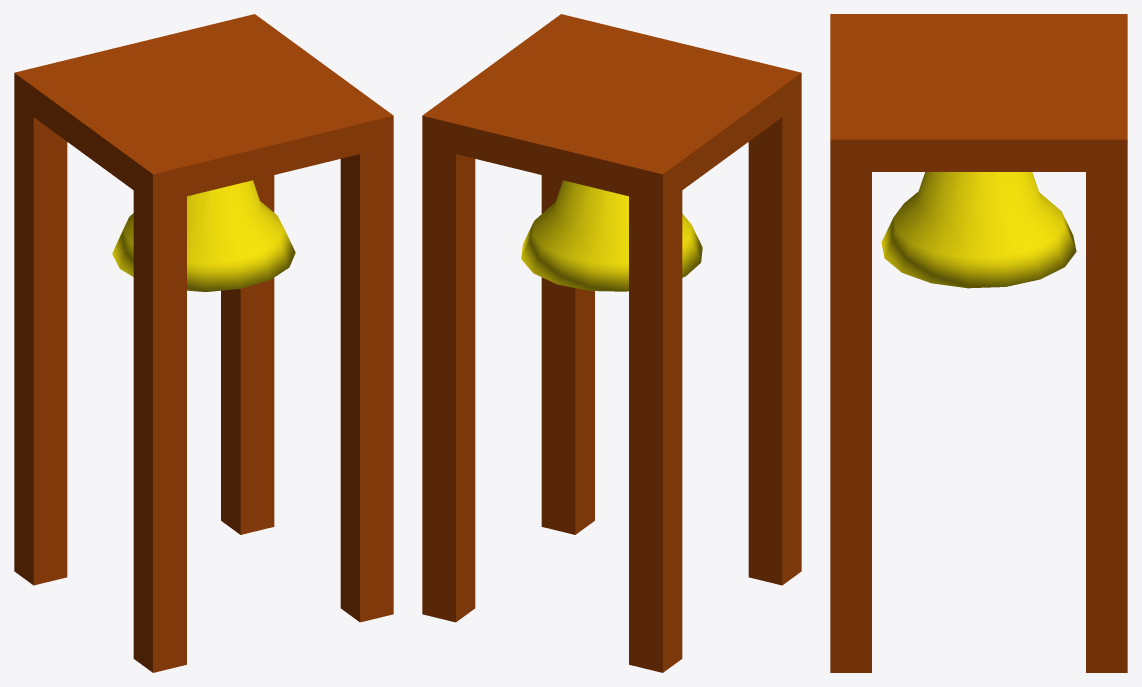
File: Bells.FBX
The picture shows the model from 3 angles, left to right: view 1: azimuth 30°, elevation 25°; view 2: azimuth 150°, elevation 25°; view 3: azimuth 270°, elevation 25°; orthographic projection. The views are drawn at different scales.
Parts seen in each view (by area): view 1: temple, Casting; view 2: temple, Casting; view 3: temple, Casting.
Part boxes in pixels (x1=…): temple: x1=14, y1=14, x2=393, y2=672; Casting: x1=112, y1=180, x2=295, y2=291; temple: x1=422, y1=14, x2=801, y2=672; Casting: x1=521, y1=180, x2=702, y2=291; temple: x1=830, y1=14, x2=1127, y2=672; Casting: x1=881, y1=172, x2=1076, y2=288.
Bounding box in the file's own units: 98.43 × 195 × 98.43.
